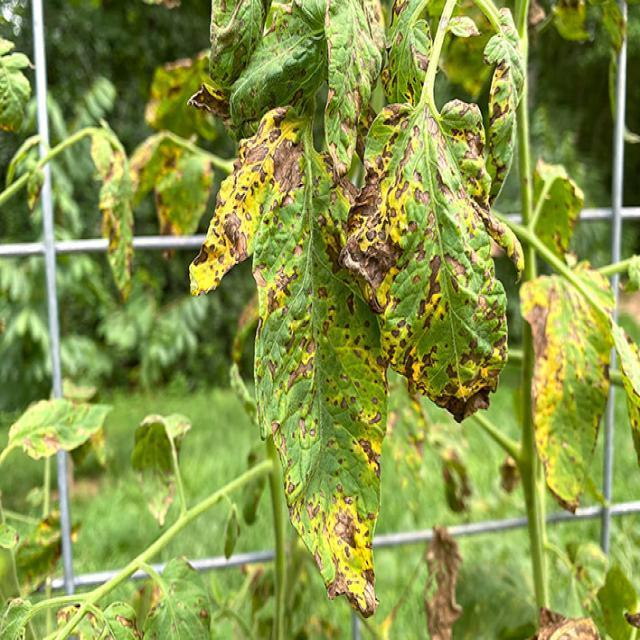Septoria: (256, 298, 380, 576), (372, 117, 492, 385), (211, 140, 341, 292)
